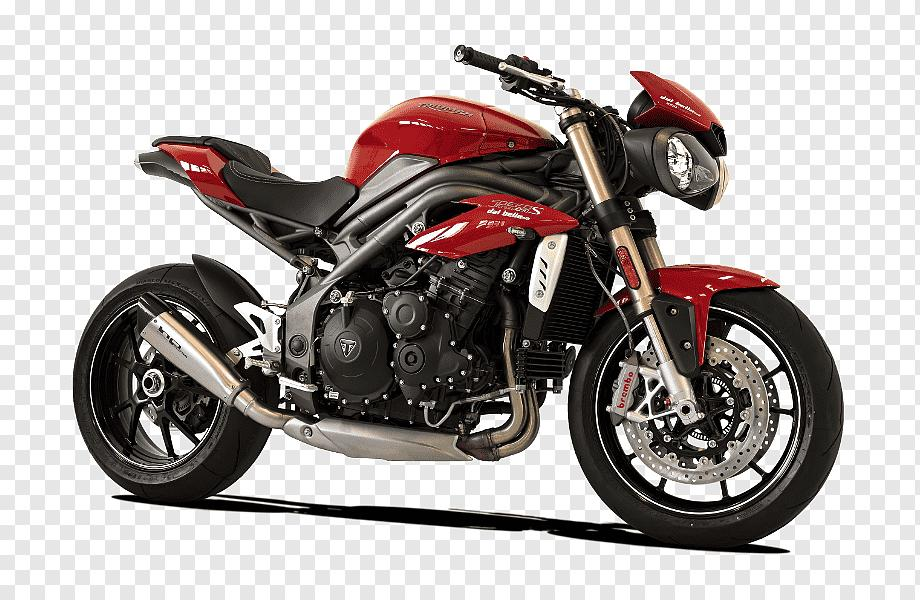motorbike: (73, 43, 845, 548)
